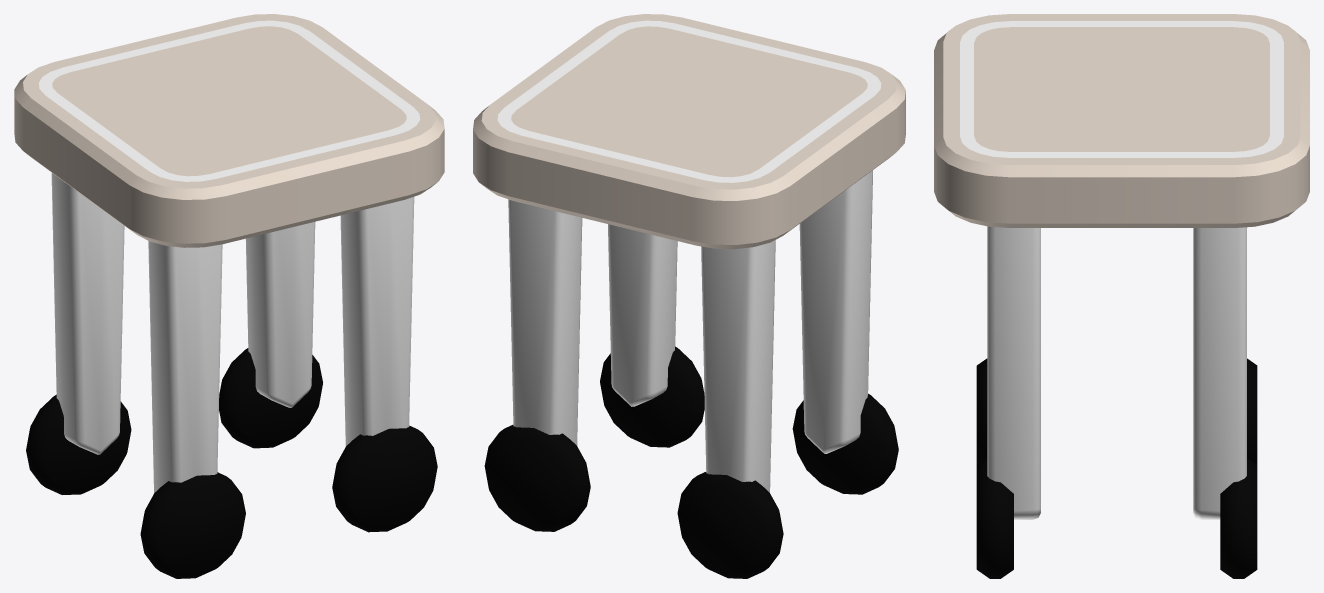
Rendered from M_CharTable.fbx.
3 views of the same model, side by side, from view 1: azimuth 30°, elevation 25°; view 2: azimuth 150°, elevation 25°; view 3: azimuth 270°, elevation 25° (orthographic). The views are drawn at different scales.
Parts seen in each view (by area): view 1: CharTable; view 2: CharTable; view 3: CharTable.
Boxes of the visible parts, x1,y1,x2,y2 form: CharTable: (14, 14, 444, 578); CharTable: (473, 14, 905, 578); CharTable: (934, 14, 1309, 578).
Bounding box in the file's own units: 1 × 1.27 × 1.
